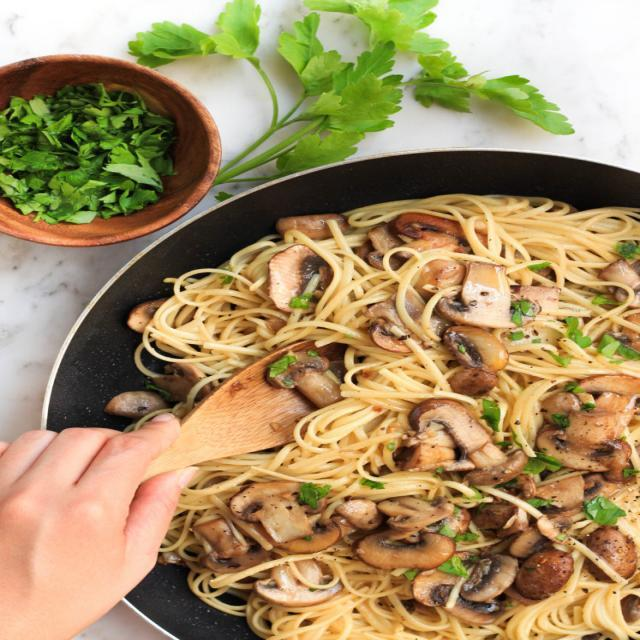Oil pasta: (157, 205, 640, 617)
